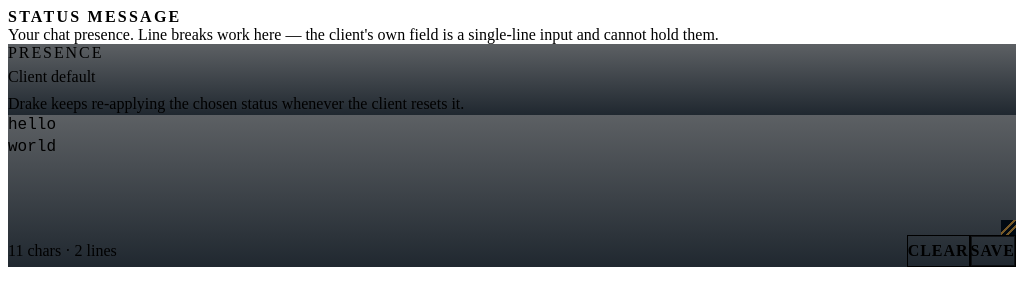
Test case: StatusScreen › edits the draft and shows the count
This screenshot has width=1024, height=284.
Expected: the text "11 chars · 2 lines" is shown, [8,242,117,260]
Replace the text in the text box named "Status Message" with "gg" at (512, 175), box [8,115,1016,235]
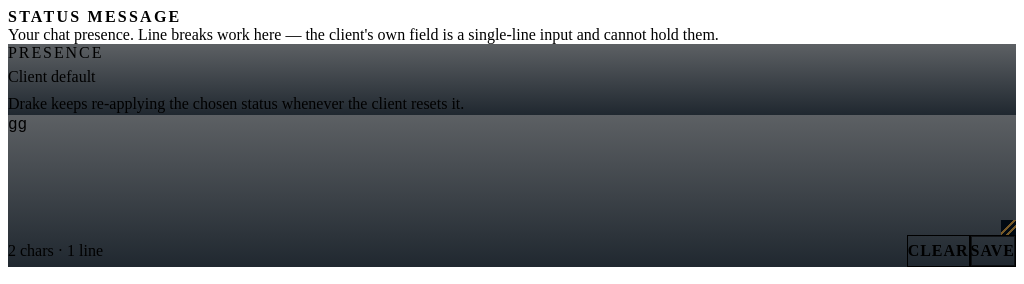
Now the text "2 chars · 1 line" is shown, box [8,242,103,260]
Click the button "Clear" at (938, 251), box [907,235,970,267]
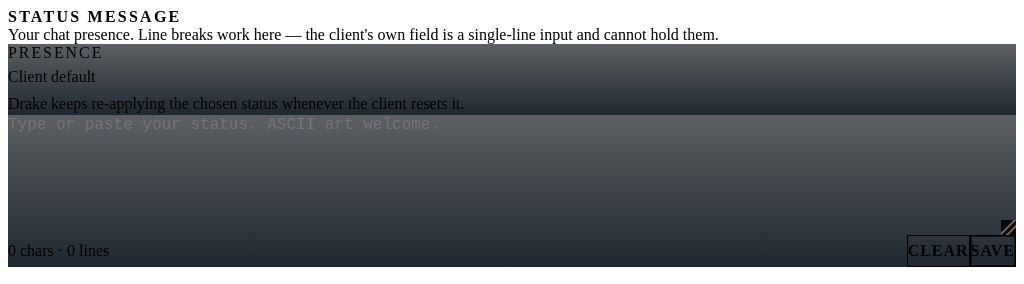
Now the text box named "Status Message" is empty, box [8,115,1016,235]
